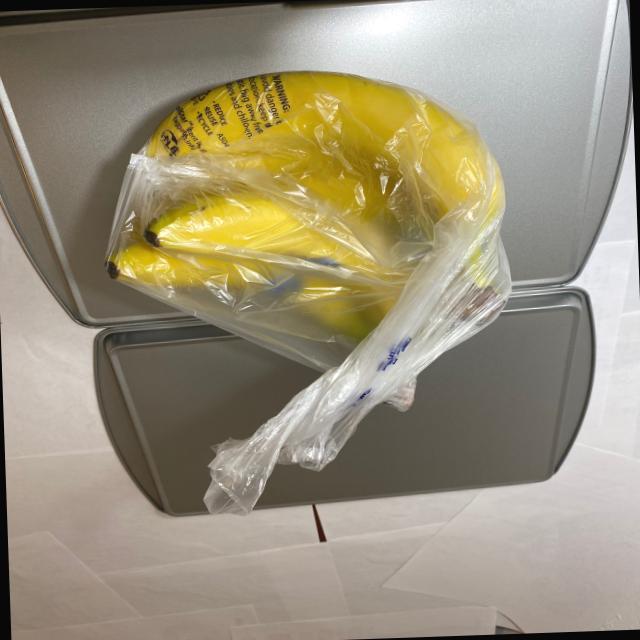banana: (100, 60, 518, 362)
